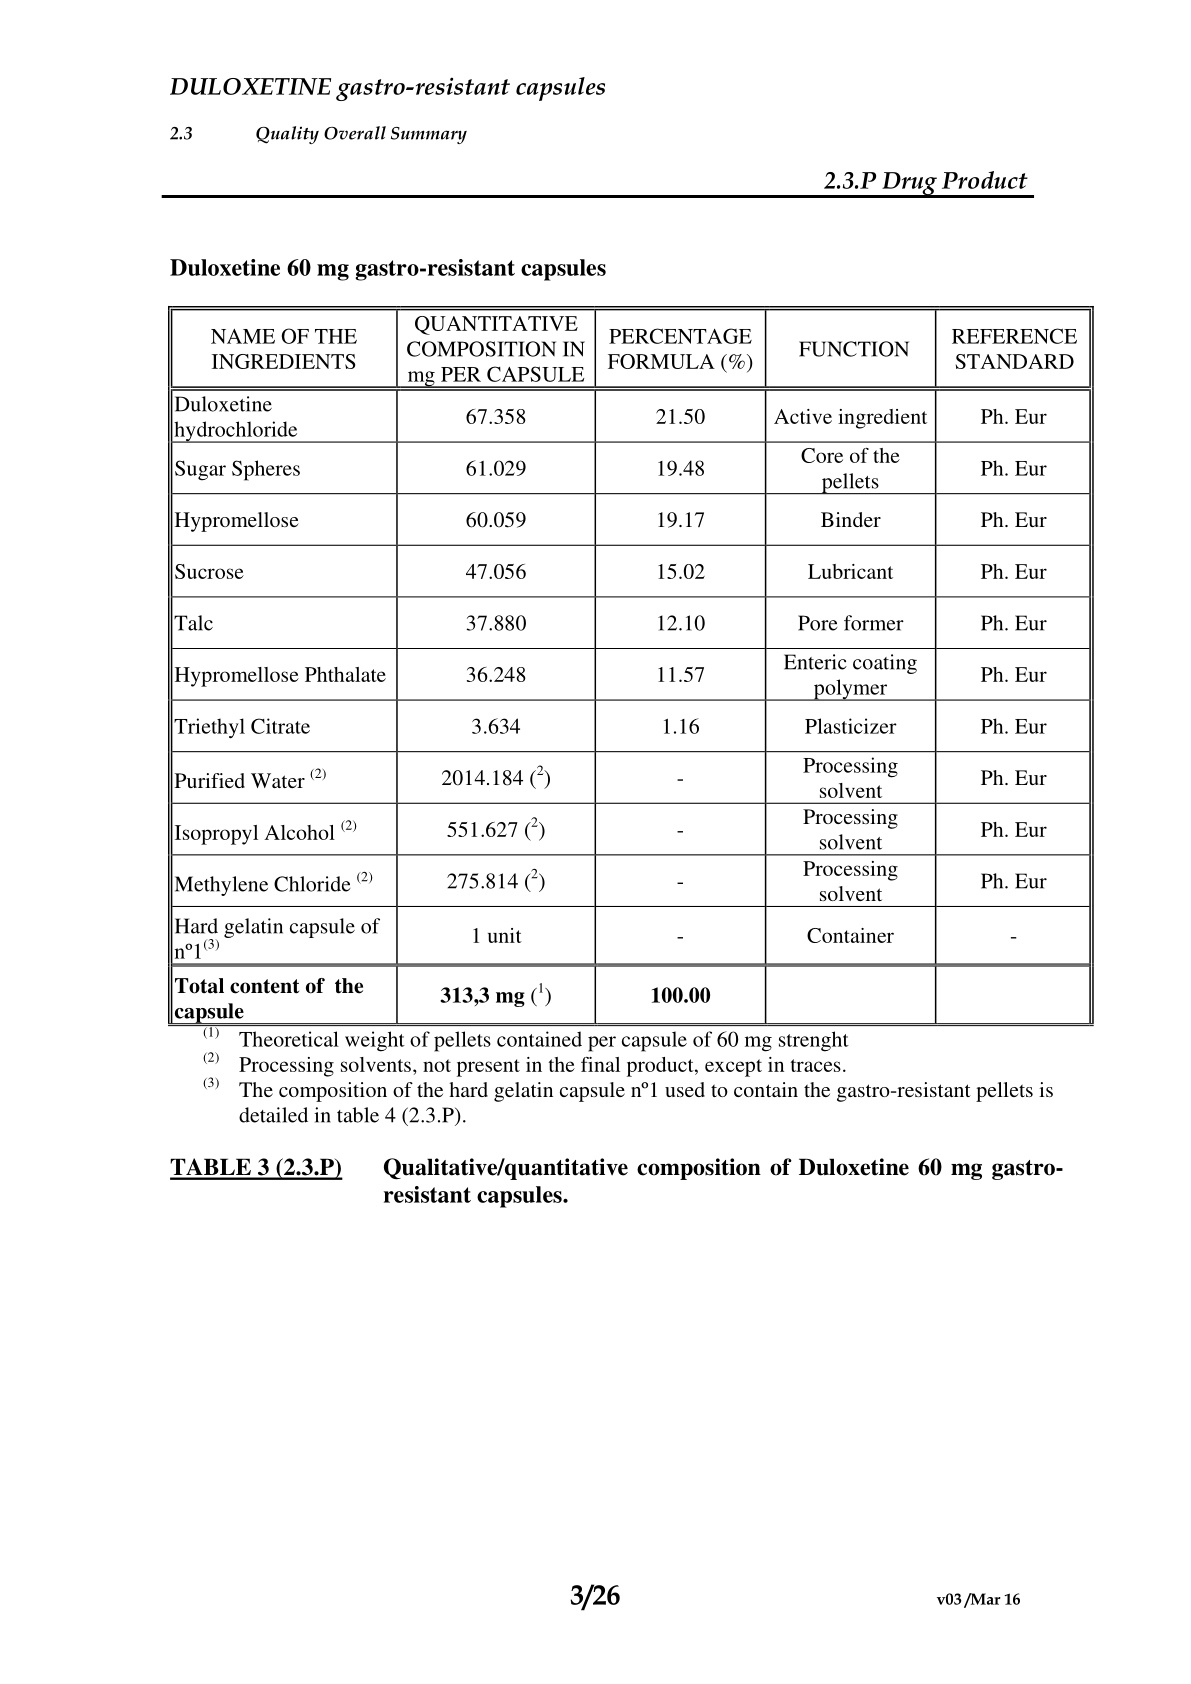full_lined: (168, 305, 1094, 1027)
